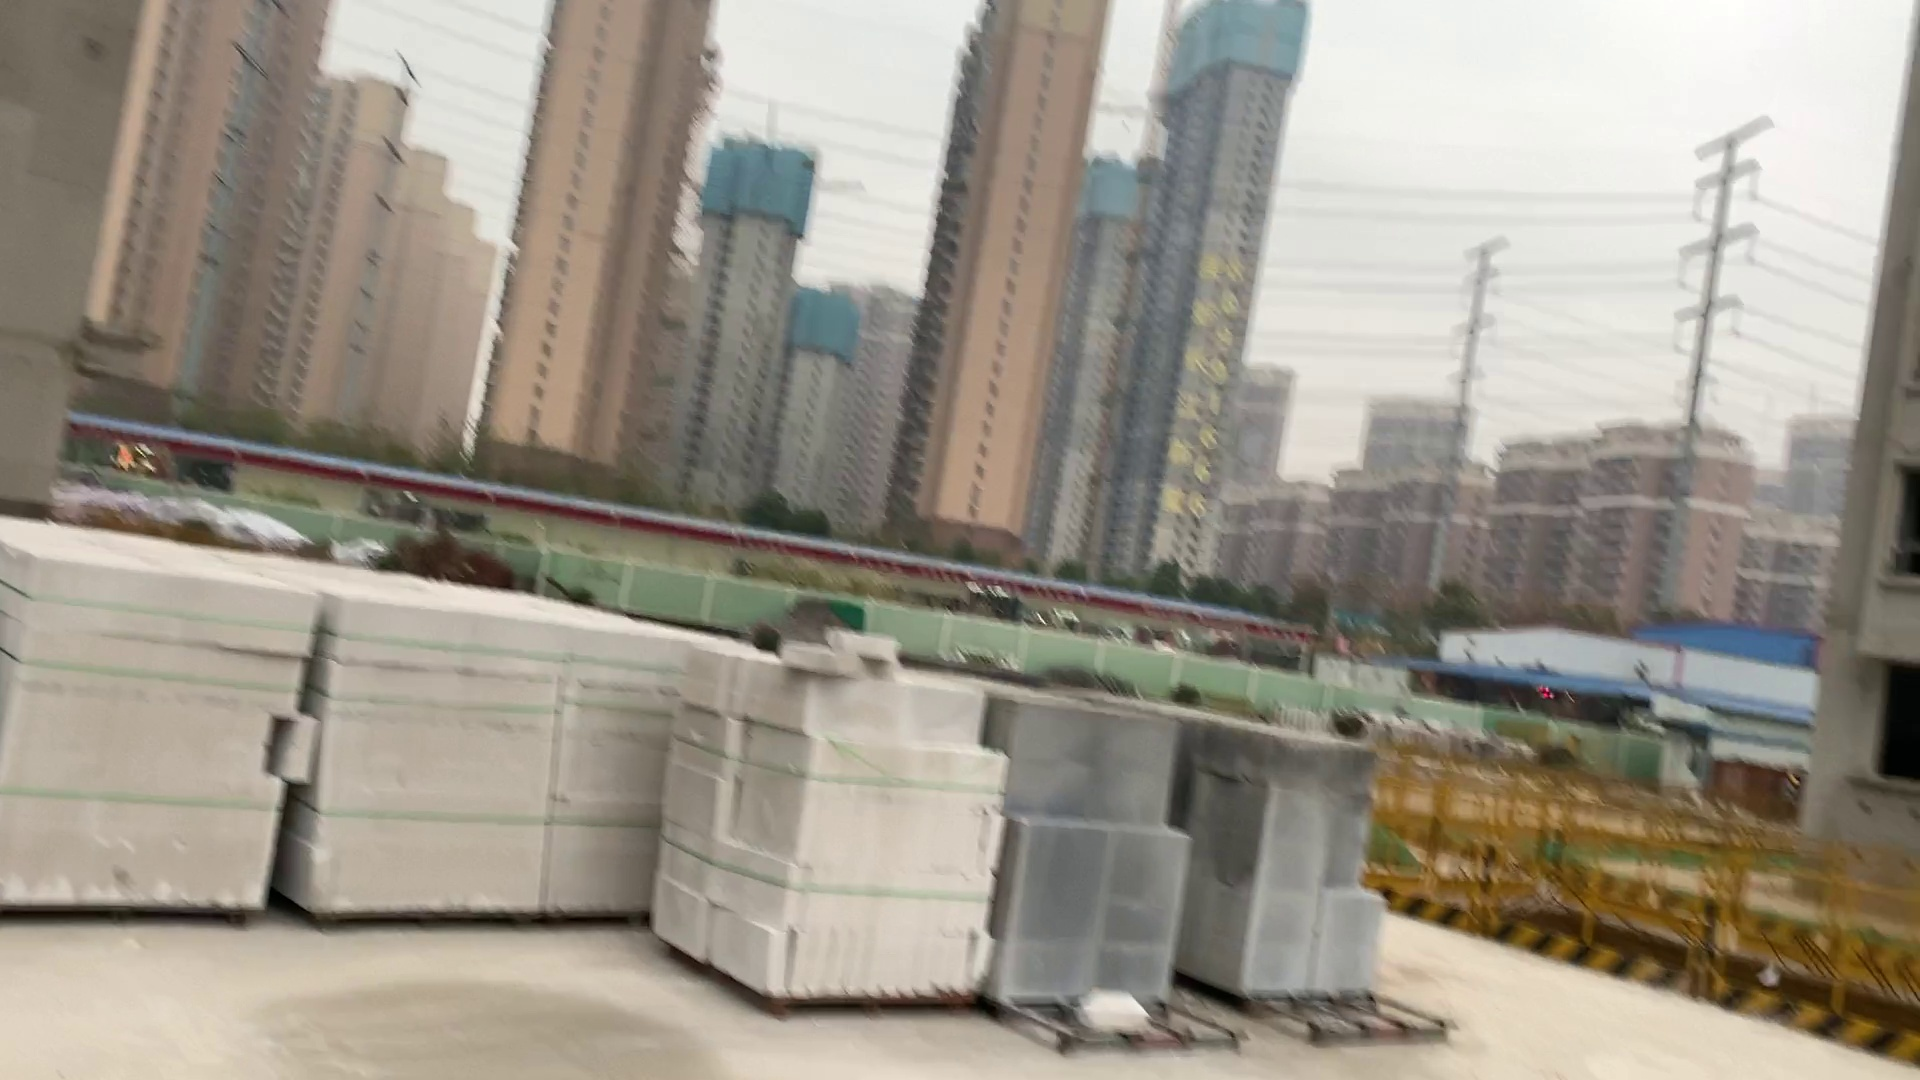brickwork: (669, 653, 992, 1006), (7, 543, 299, 924), (320, 591, 543, 928), (1004, 699, 1196, 1018), (1199, 720, 1387, 1000), (556, 622, 662, 920)
